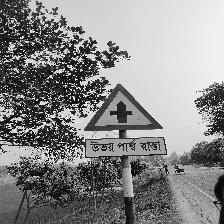Crossroad: (79, 77, 171, 165)
